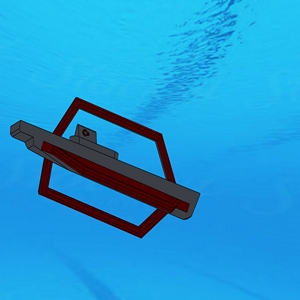submarine: (9, 96, 198, 239)
